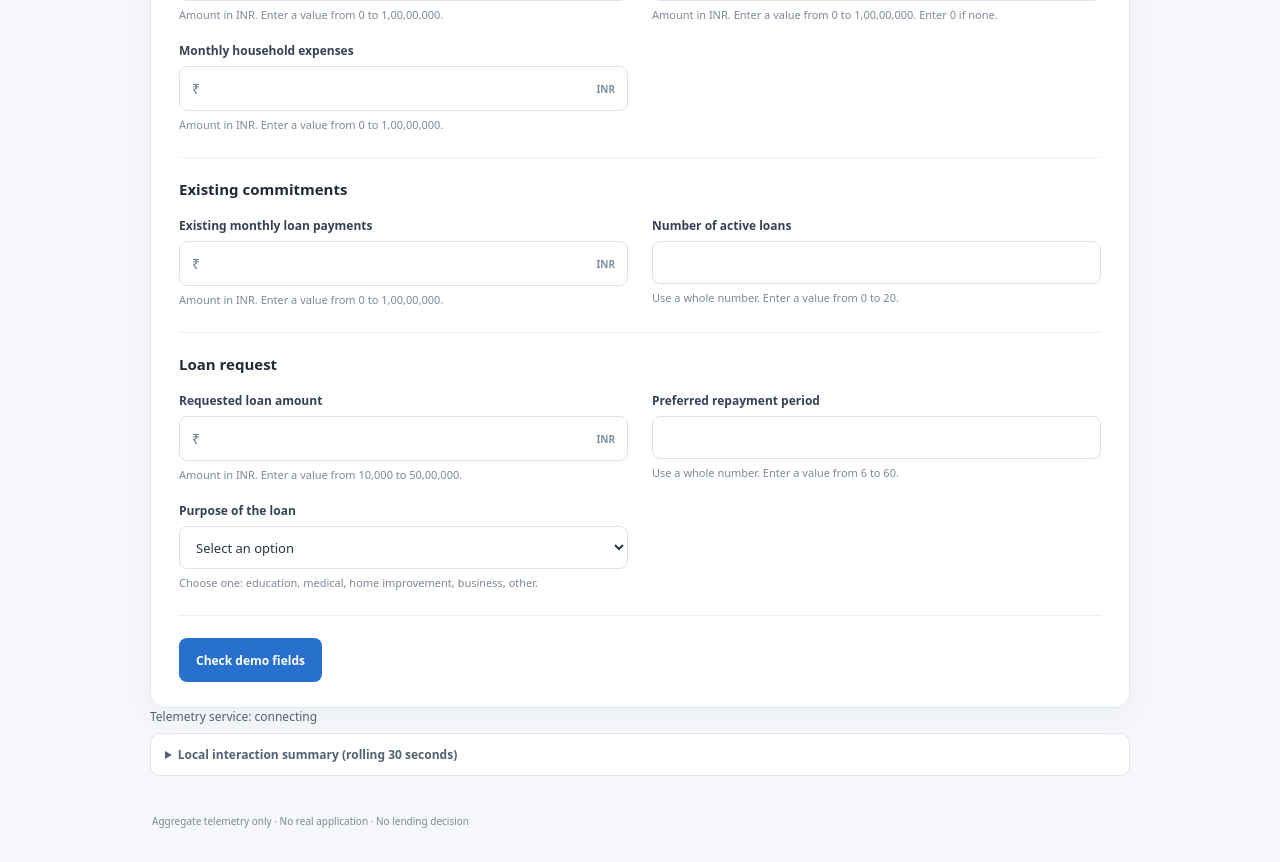
synthetic personal loan form › keeps form completion available while telemetry is disconnected
The image size is (1280, 862).
(page scrolled)
Click the button "Check demo fields" at (250, 660), box [179,638,322,682]
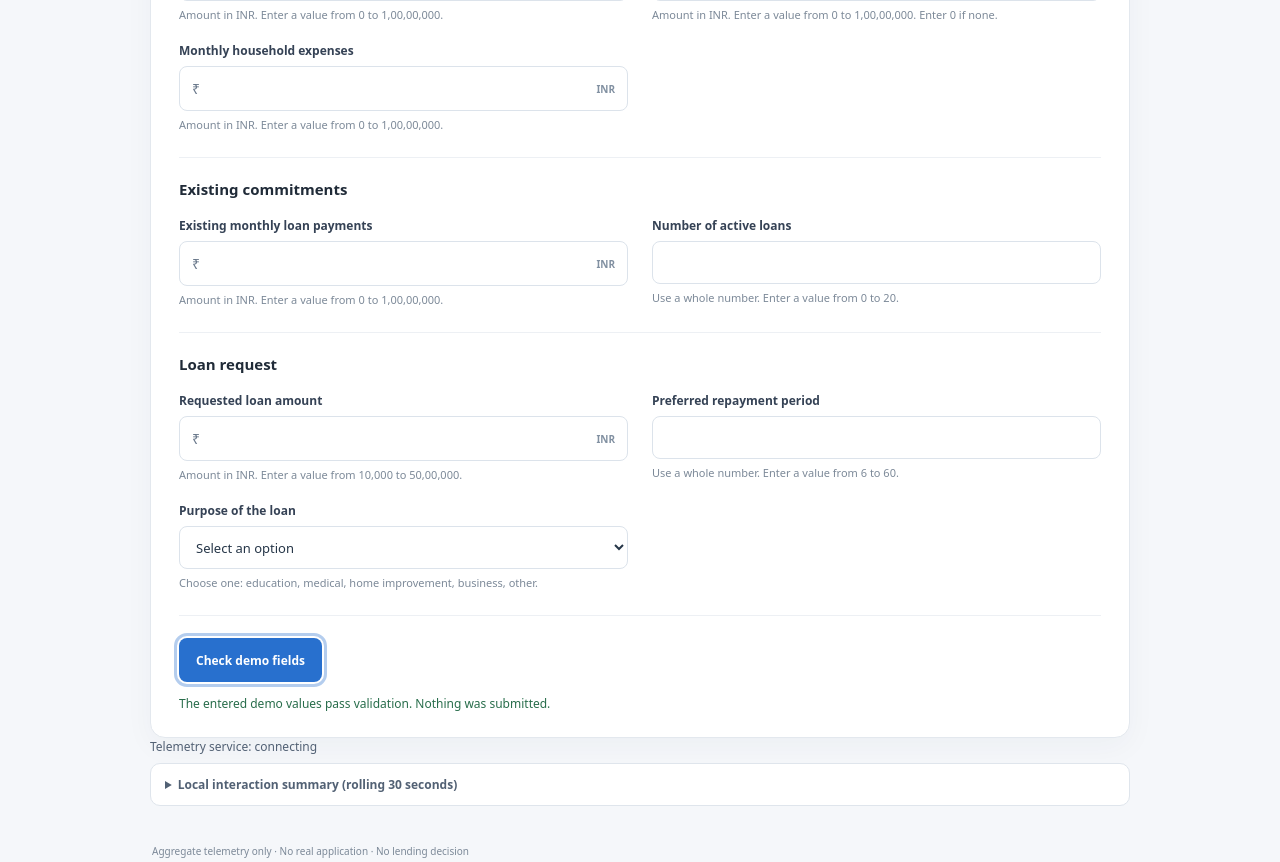
Result: the text "The entered demo values pass validation. Nothing was submitted." is shown at [179,695,550,712]
